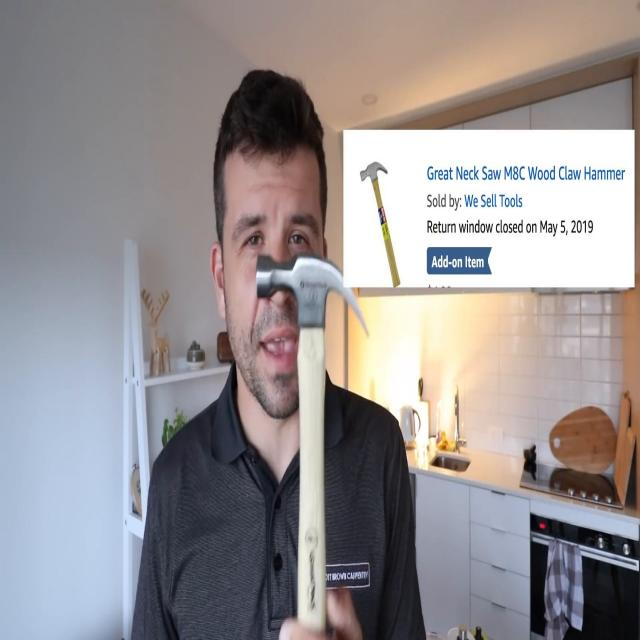hammer: (256, 252, 370, 640)
